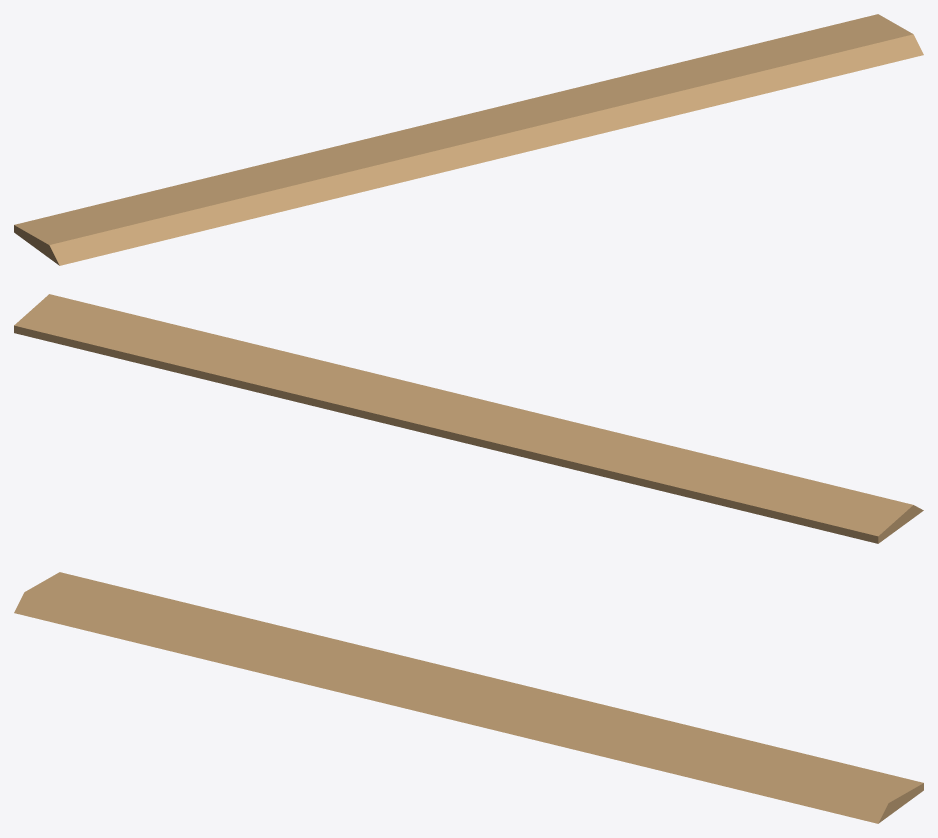
File: prop-ruling-straightedge.fbx
The picture shows the model from 3 angles, top to bottom: view 1: azimuth 30°, elevation 25°; view 2: azimuth 150°, elevation 25°; view 3: azimuth 330°, elevation 25°; orthographic projection.
Parts seen in each view (by area): view 1: prop-ruling-straightedge; view 2: prop-ruling-straightedge; view 3: prop-ruling-straightedge.
Part boxes in pixels (x1,y1,x2,y2): prop-ruling-straightedge: [14, 14, 923, 265]; prop-ruling-straightedge: [14, 294, 923, 543]; prop-ruling-straightedge: [14, 572, 923, 823].
Bounding box in the file's own units: 48 × 0.7 × 4.4.
